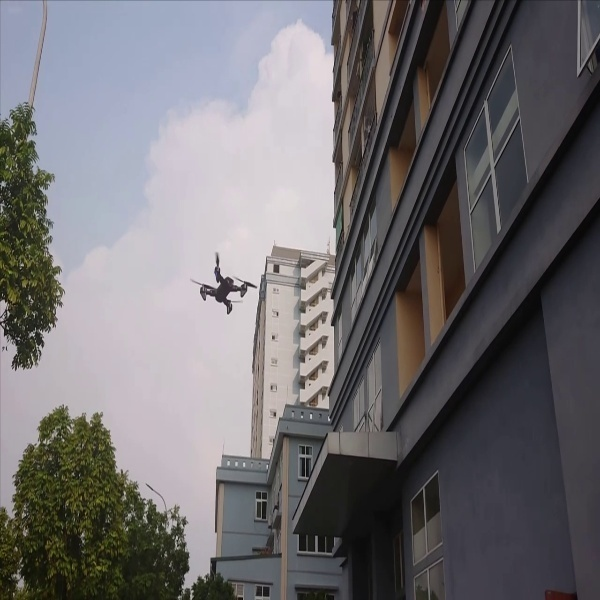drone: (187, 237, 260, 318)
